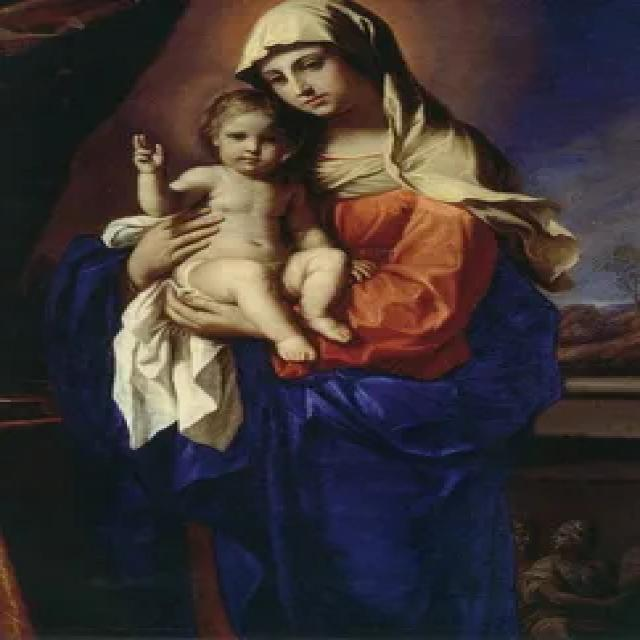mother of god: (48, 0, 577, 640)
